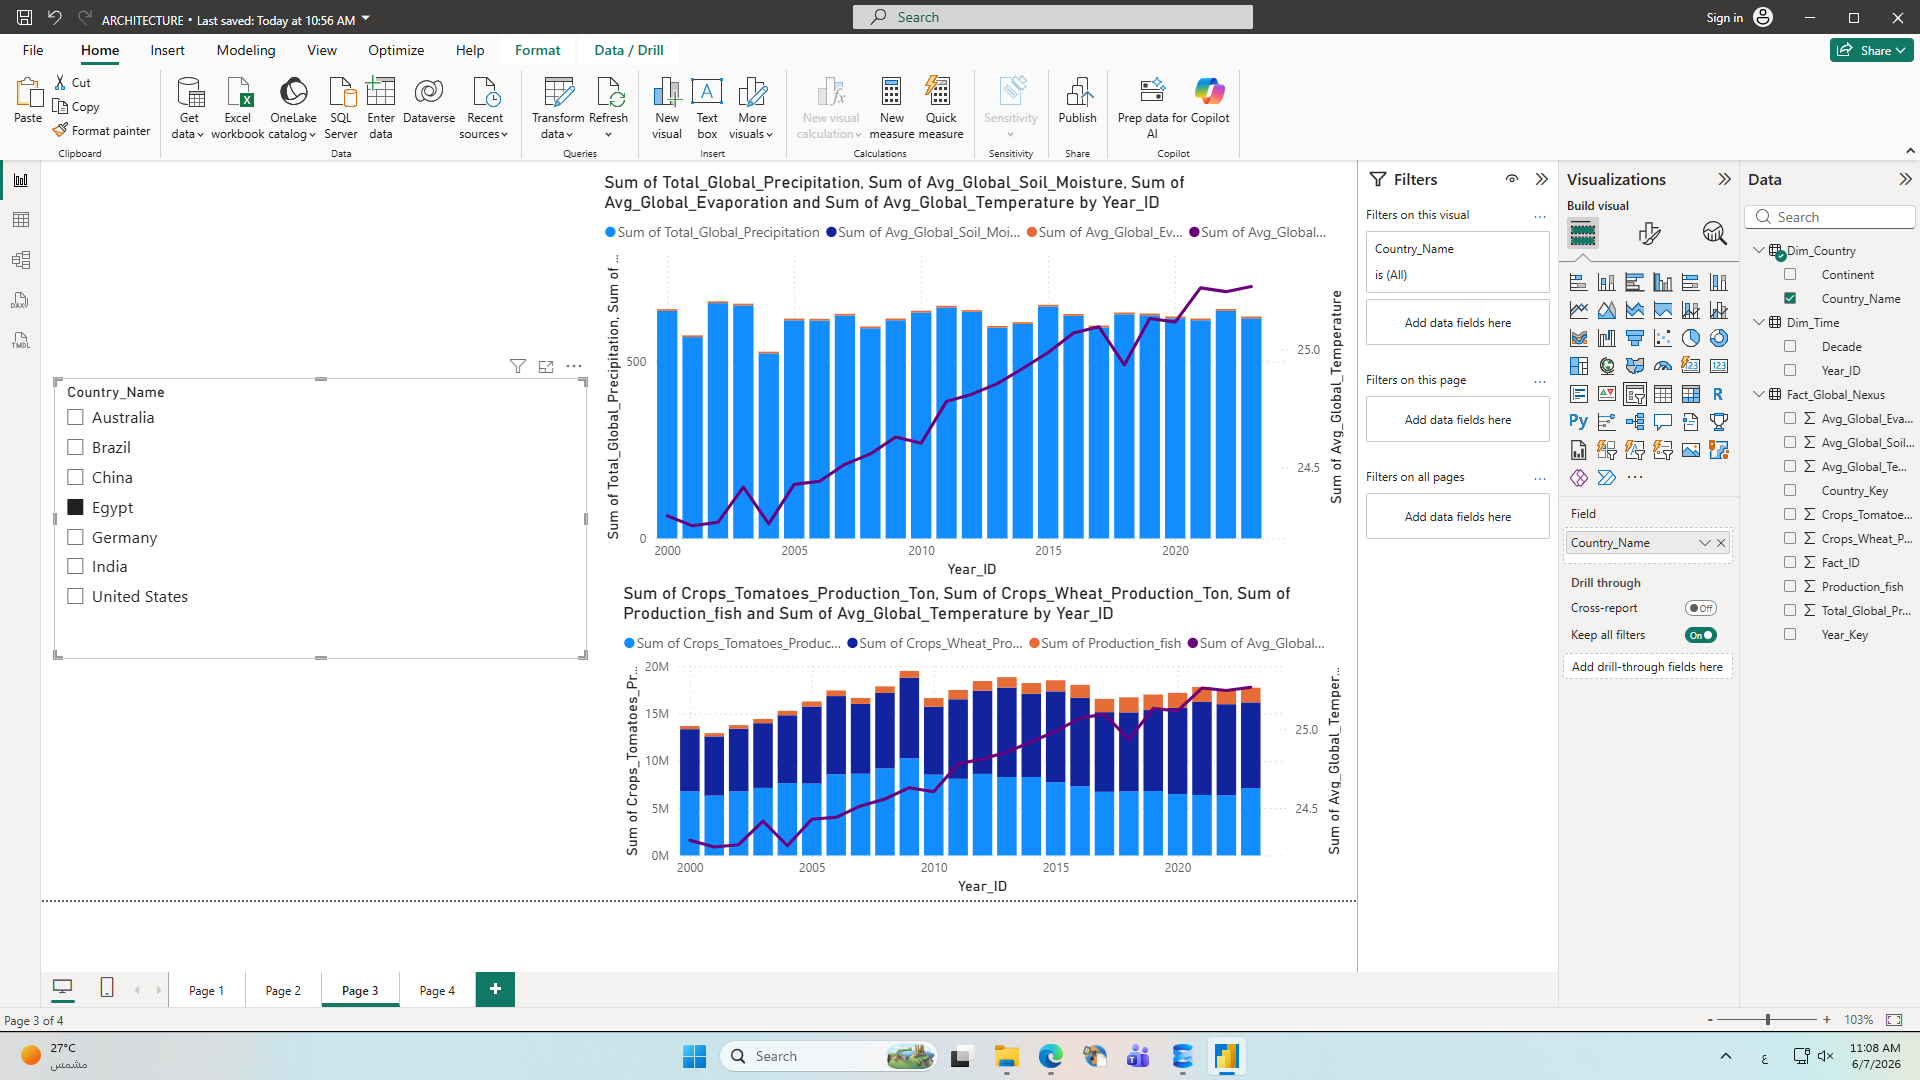

The dashboard page shown, as its layout file describes it:
{"tool":"powerbi","page":{"name":"Page 3","canvas":[1280,720],"ordinal":2},"visuals":[{"type":"lineStackedColumnComboChart","fields":{"Category":["Dim_Time.Year_ID"],"Y":["Sum(Fact_Global_Nexus.Total_Global_Precipitation)","Sum(Fact_Global_Nexus.Avg_Global_Soil_Moisture)","Sum(Fact_Global_Nexus.Avg_Global_Evaporation)"],"Y2":["Sum(Fact_Global_Nexus.Avg_Global_Temperature)"]},"box":[542.7,11.7,728.5,399.8],"z":0},{"type":"slicer","fields":{"Values":["Dim_Country.Country_Name"]},"box":[12.6,212,518.4,273.3],"z":1000},{"type":"lineStackedColumnComboChart","fields":{"Category":["Dim_Time.Year_ID"],"Y":["Sum(Fact_Global_Nexus.Crops_Tomatoes_Production_Ton)","Sum(Fact_Global_Nexus.Crops_Wheat_Production_Ton)","Sum(Fact_Global_Nexus.Production_MT)"],"Y2":["Sum(Fact_Global_Nexus.Avg_Global_Temperature)"]},"box":[561.2,411.4,708.1,308.3],"z":2000}]}

Visuals, with their boxes on the page's 1280x720 design canvas (x1, y1, x2, y2). These are canvas units, not pixel positions in the 1920x1080 screenshot, which may show the page scaled, cropped or inside an application window:
lineStackedColumnComboChart - Dim_Time.Year_ID x Sum(Fact_Global_Nexus.Total_Global_Precipitation): 543/12/1271/412
slicer - Dim_Country.Country_Name: 13/212/531/485
lineStackedColumnComboChart - Dim_Time.Year_ID x Sum(Fact_Global_Nexus.Crops_Tomatoes_Production_Ton): 561/411/1269/720
